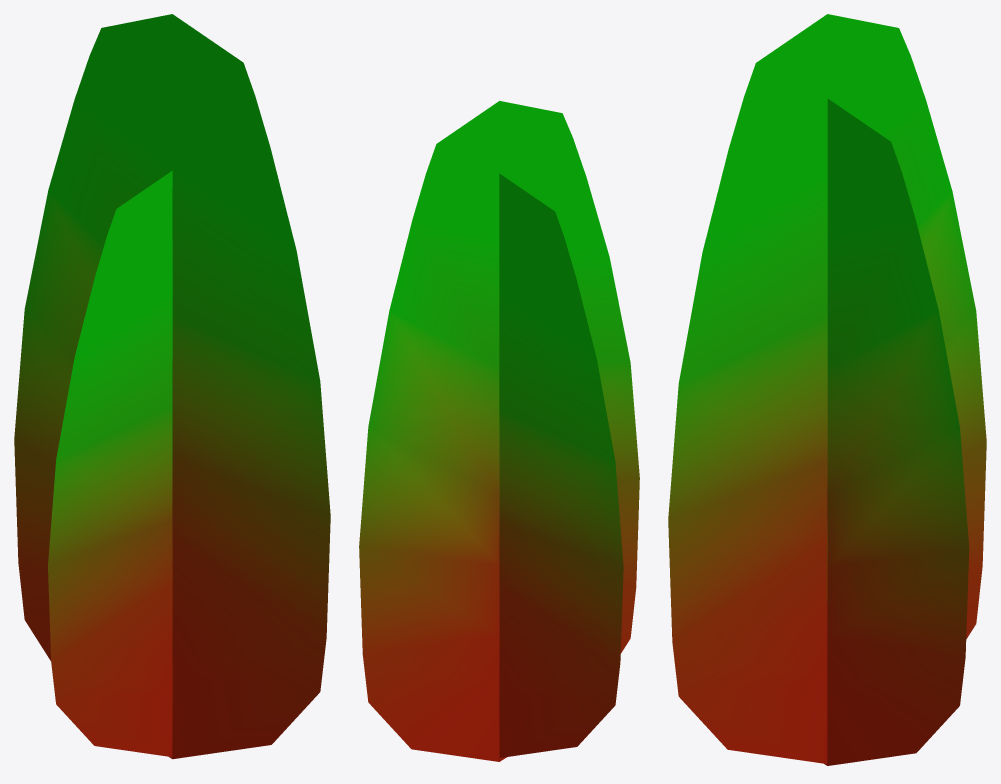
The model's file is TorchFire.fbx.
3 views of the same model, side by side, from view 1: azimuth 30°, elevation 25°; view 2: azimuth 150°, elevation 25°; view 3: azimuth 270°, elevation 25° (orthographic).
Visible parts, largest first — view 1: TorchFireMesh; view 2: TorchFireMesh; view 3: TorchFireMesh.
Part boxes in pixels (x1,y1,x2,y2): TorchFireMesh: (14, 14, 330, 759); TorchFireMesh: (359, 101, 639, 761); TorchFireMesh: (668, 14, 986, 765).
Bounding box in the file's own units: 21.32 × 61.11 × 23.46.
